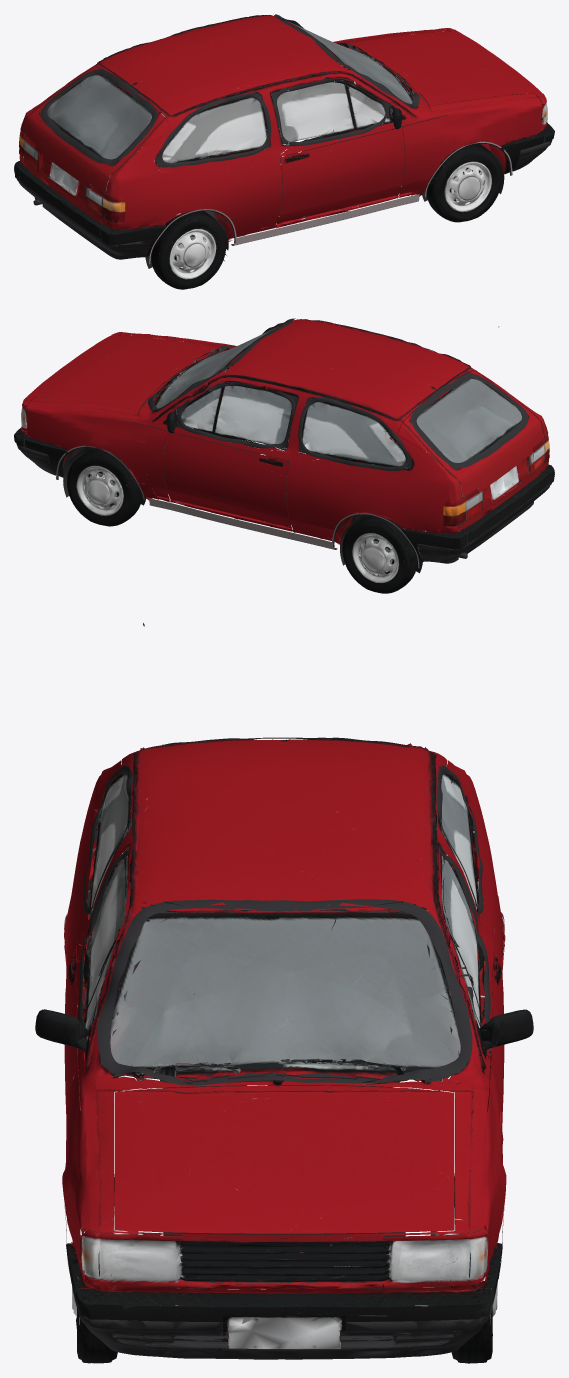
The model's file is hatch-quadrado-v2.glb.
3 views of the same model, one above another, from view 1: azimuth 30°, elevation 25°; view 2: azimuth 150°, elevation 25°; view 3: azimuth 270°, elevation 25° (orthographic). The views are drawn at different scales.
Visible parts, largest first — view 1: body, door_fr, hood, fender_front_right, trunk, glass_rear, glass_door_fr, glass_door_rr, wheel_rr_tire, wheel_fr_tire, wheel_fr_rim, wheel_rr_rim (+7 smaller); view 2: body, door_fl, hood, fender_front_left, trunk, glass_rear, glass_door_fl, glass_door_rl, wheel_rl_tire, wheel_fl_tire, glass_windshield, wheel_fl_rim (+7 smaller); view 3: body, glass_windshield, hood, bumper_front, fender_front_left, fender_front_right, headlight_right, headlight_left, plate_front, glass_door_fr, glass_door_fl, glass_door_rr (+8 smaller).
Boxes of the visible parts, x1,y1,x2,y2 form: body: [14, 14, 554, 268]; door_fr: [273, 79, 404, 228]; hood: [347, 31, 541, 105]; fender_front_right: [399, 93, 543, 197]; trunk: [19, 65, 170, 239]; glass_rear: [40, 75, 161, 165]; glass_door_fr: [270, 77, 391, 146]; glass_door_rr: [140, 74, 270, 167]; wheel_rr_tire: [151, 211, 226, 289]; wheel_fr_tire: [426, 144, 501, 222]; wheel_fr_rim: [444, 159, 491, 211]; wheel_rr_rim: [169, 227, 215, 279]; body: [14, 318, 554, 573]; door_fl: [164, 382, 295, 531]; hood: [27, 335, 219, 409]; fender_front_left: [25, 397, 169, 501]; trunk: [398, 370, 549, 543]; glass_rear: [409, 371, 528, 469]; glass_door_fl: [176, 382, 298, 450]; glass_door_rl: [298, 397, 412, 470]; wheel_rl_tire: [342, 516, 417, 593]; wheel_fl_tire: [67, 448, 142, 526]; glass_windshield: [151, 318, 295, 412]; wheel_fl_rim: [77, 464, 131, 515]; body: [62, 739, 505, 1340]; glass_windshield: [100, 901, 469, 1083]; hood: [114, 1080, 454, 1233]; bumper_front: [72, 1283, 497, 1359]; fender_front_left: [405, 1067, 506, 1324]; fender_front_right: [62, 1066, 153, 1324]; headlight_right: [80, 1229, 184, 1286]; headlight_left: [383, 1229, 488, 1287]; plate_front: [223, 1316, 345, 1348]; glass_door_fr: [82, 847, 129, 1039]; glass_door_fl: [439, 844, 481, 1027]; glass_door_rr: [89, 623, 144, 919].
Bounding box in the file's own units: 3.81 × 1.72 × 1.83.
7 materials, 5 textured.
